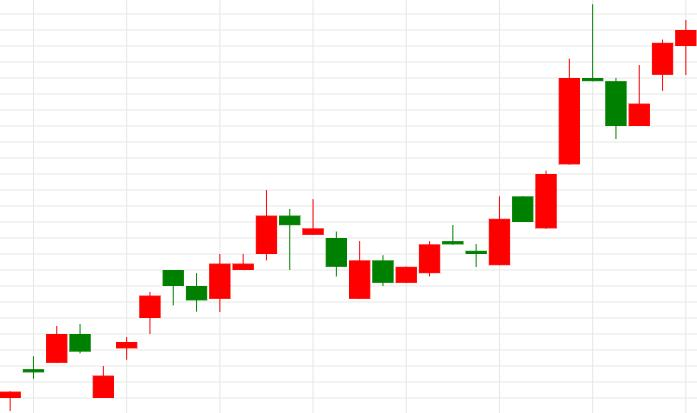evening_star_fall: (489, 4, 627, 266)
